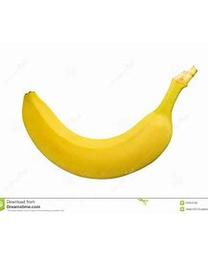banana: (21, 66, 198, 179)
